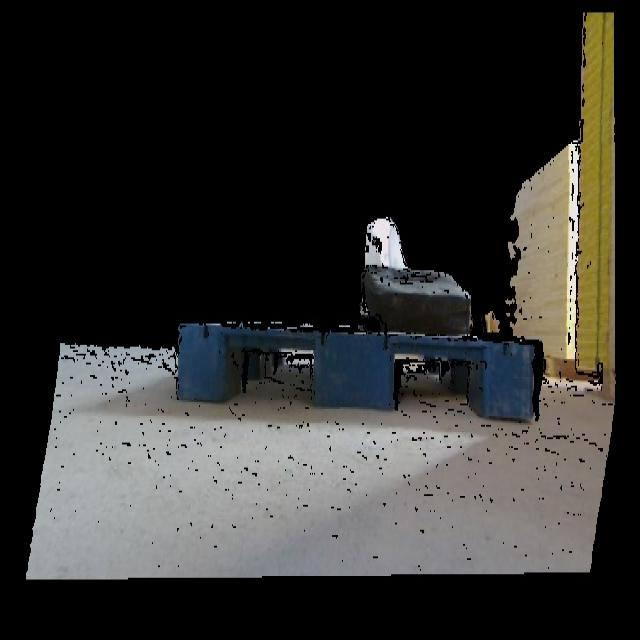block: (312, 324, 398, 415), (483, 334, 542, 426), (176, 322, 236, 404)
front: (174, 316, 541, 428)
